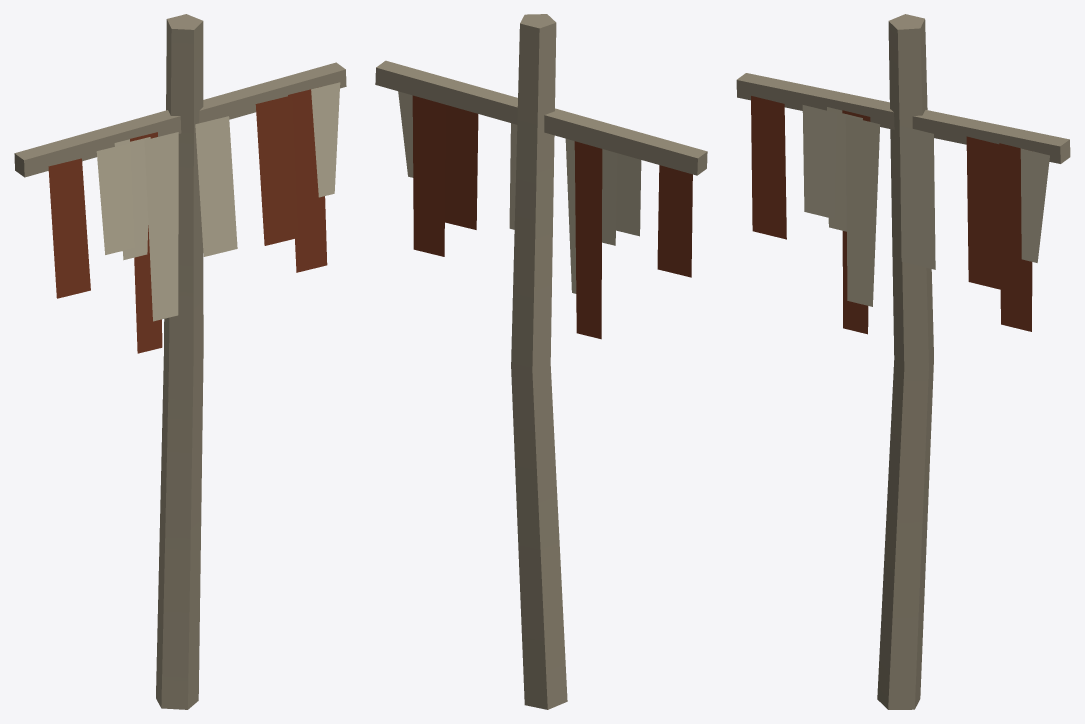
File: RibbonPost.fbx
3 views of the same model, side by side, from view 1: azimuth 30°, elevation 25°; view 2: azimuth 150°, elevation 25°; view 3: azimuth 330°, elevation 25° (orthographic).
Parts seen in each view (by area): view 1: RibbonPost; view 2: RibbonPost; view 3: RibbonPost.
Boxes of the visible parts, box(x1,y1,x2,y2) form: RibbonPost: box(14, 14, 346, 709); RibbonPost: box(375, 14, 707, 709); RibbonPost: box(736, 14, 1070, 709).
Size of the model in its own units: 0.8216 by 1.65 by 0.119.
